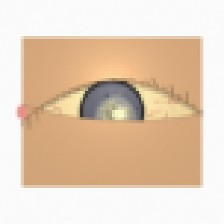corneal_ulcer: (94, 100, 138, 135)
